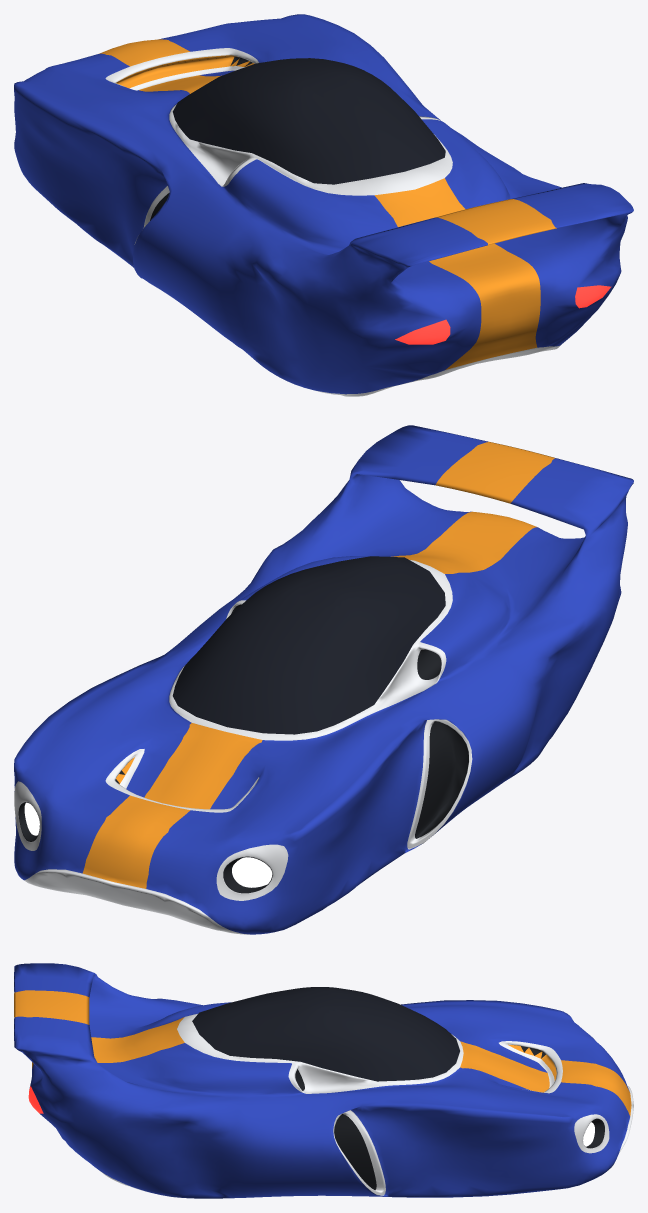
File: v4-widebody.glb
The picture shows the model from 3 angles, top to bottom: view 1: azimuth 30°, elevation 25°; view 2: azimuth 150°, elevation 25°; view 3: azimuth 270°, elevation 25°; orthographic projection. The views are drawn at different scales.
Parts seen in each view (by area): view 1: Body.001, Canopy; view 2: Body.001, Canopy; view 3: Body.001, Canopy.
Part boxes in pixels (x1,y1,x2,y2): Body.001: (14, 14, 633, 396); Canopy: (172, 58, 445, 184); Body.001: (14, 425, 633, 934); Canopy: (172, 556, 445, 734); Body.001: (14, 963, 633, 1198); Canopy: (192, 987, 459, 1081).
Bounding box in the file's own units: 1.88 × 1.12 × 4.01.
